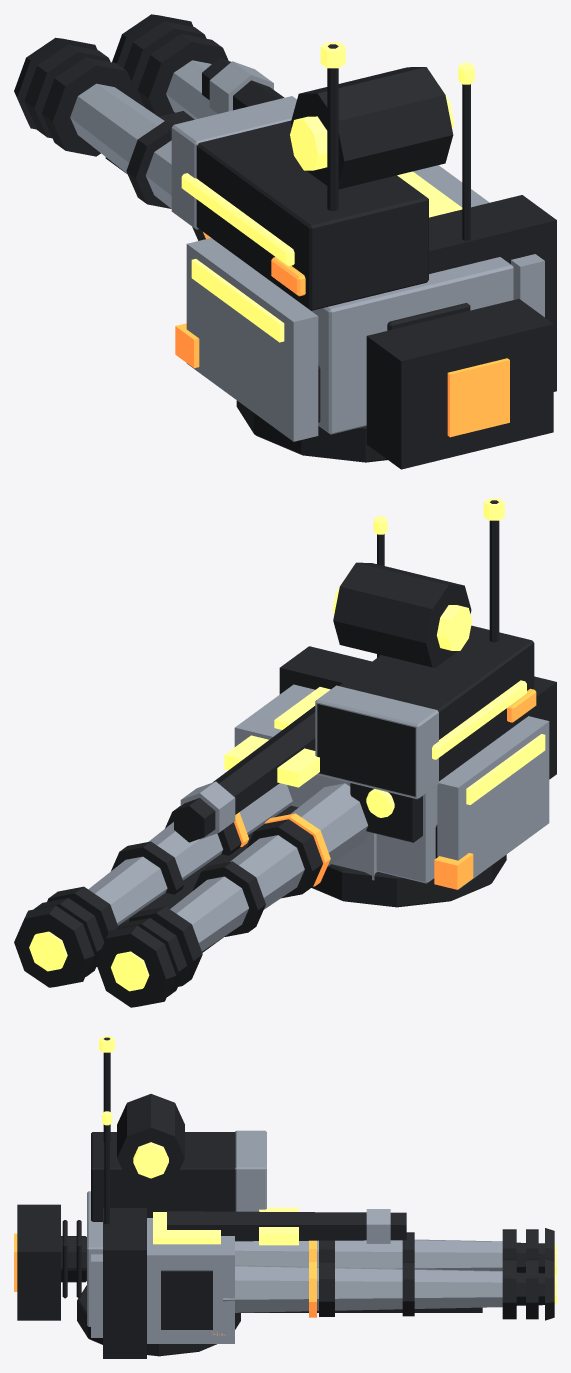
Rendered from tower_heavy_turret.glb.
3 views of the same model, one above another, from view 1: azimuth 30°, elevation 25°; view 2: azimuth 150°, elevation 25°; view 3: azimuth 270°, elevation 25° (orthographic). The views are drawn at different scales.
Visible parts, largest first — view 1: TowerHeavy_Turret, TowerHeavy_Barrel; view 2: TowerHeavy_Turret, TowerHeavy_Barrel; view 3: TowerHeavy_Barrel, TowerHeavy_Turret.
Part boxes in pixels (<box>): TowerHeavy_Turret: <box>171,42,553,469</box>; TowerHeavy_Barrel: <box>14,14,556,391</box>; TowerHeavy_Turret: <box>311,498,556,907</box>; TowerHeavy_Barrel: <box>14,646,377,1007</box>; TowerHeavy_Barrel: <box>103,1207,556,1358</box>; TowerHeavy_Turret: <box>14,1036,266,1356</box>.
Size of the model in its own units: 0.51 by 0.72 by 1.36.
